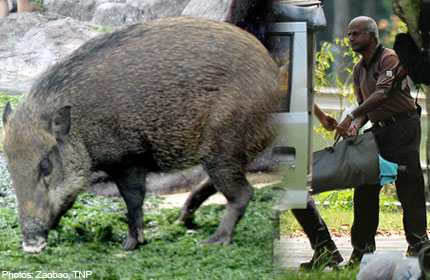boar: (1, 7, 277, 259)
